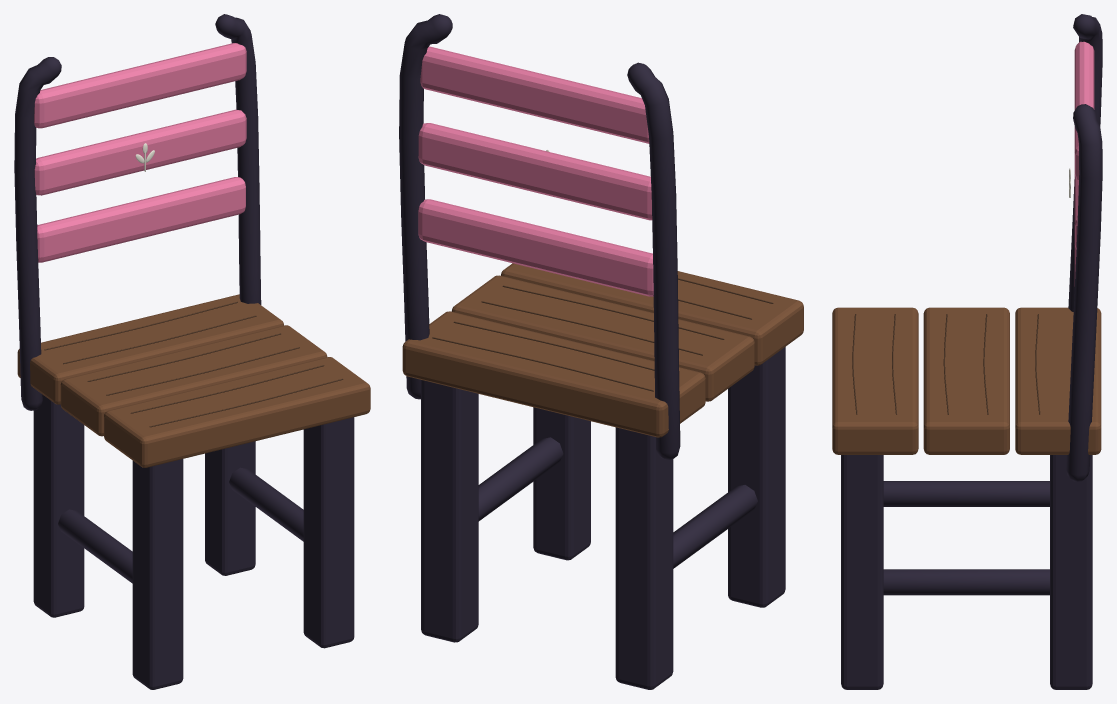
The model's file is chair_rose.glb.
The picture shows the model from 3 angles, left to right: view 1: azimuth 30°, elevation 25°; view 2: azimuth 150°, elevation 25°; view 3: azimuth 270°, elevation 25°; orthographic projection. The views are drawn at different scales.
Parts seen in each view (by area): view 1: Bevelled_timber.002, Leg.001, Leg.003, Bevelled_timber.001, Bevelled_timber, Leg, Rounded_back_slat.002, Rounded_back_slat, Rounded_back_slat.001, Back_upright, Leg.002, Back_upright.001 (+2 smaller); view 2: Bevelled_timber, Leg.002, Leg, Leg.001, Bevelled_timber.001, Rounded_back_slat, Rounded_back_slat.001, Rounded_back_slat.002, Back_upright, Bevelled_timber.002, Back_upright.001, Leg.003 (+2 smaller); view 3: Bevelled_timber.002, Bevelled_timber.001, Leg.003, Leg.002, Bevelled_timber, Back_upright.001, Side_brace.001, Side_brace, Back_upright, Rounded_back_slat.002.
Boxes of the visible parts, bbox=[...] form: Bevelled_timber.002: bbox=[104, 357, 370, 467]; Leg.001: bbox=[132, 459, 183, 689]; Leg.003: bbox=[303, 417, 354, 648]; Bevelled_timber.001: bbox=[60, 325, 327, 436]; Bevelled_timber: bbox=[17, 294, 283, 404]; Leg: bbox=[33, 394, 84, 617]; Rounded_back_slat.002: bbox=[34, 43, 246, 128]; Rounded_back_slat: bbox=[37, 177, 245, 262]; Rounded_back_slat.001: bbox=[34, 109, 246, 195]; Back_upright: bbox=[14, 57, 61, 410]; Leg.002: bbox=[205, 441, 255, 575]; Back_upright.001: bbox=[215, 14, 261, 304]; Bevelled_timber: bbox=[402, 311, 705, 437]; Leg.002: bbox=[421, 380, 478, 642]; Leg: bbox=[615, 427, 673, 689]; Leg.001: bbox=[728, 347, 785, 607]; Bevelled_timber.001: bbox=[451, 275, 754, 401]; Rounded_back_slat: bbox=[418, 199, 653, 296]; Rounded_back_slat.001: bbox=[418, 123, 652, 220]; Rounded_back_slat.002: bbox=[420, 46, 649, 143]; Back_upright: bbox=[627, 62, 680, 459]; Bevelled_timber.002: bbox=[501, 263, 803, 365]; Back_upright.001: bbox=[399, 14, 452, 399]; Leg.003: bbox=[533, 407, 590, 560]; Bevelled_timber.002: bbox=[832, 307, 918, 454]; Bevelled_timber.001: bbox=[923, 307, 1009, 454]; Leg.003: bbox=[841, 455, 883, 689]; Leg.002: bbox=[1050, 455, 1092, 689]; Bevelled_timber: bbox=[1015, 307, 1101, 454]; Back_upright.001: bbox=[1066, 104, 1102, 481]; Side_brace.001: bbox=[883, 569, 1049, 595]; Side_brace: bbox=[883, 481, 1049, 506]; Back_upright: bbox=[1068, 14, 1102, 311]; Rounded_back_slat.002: bbox=[1074, 41, 1094, 180].
Bounding box in the file's own units: 0.4518 × 0.977 × 0.414.
